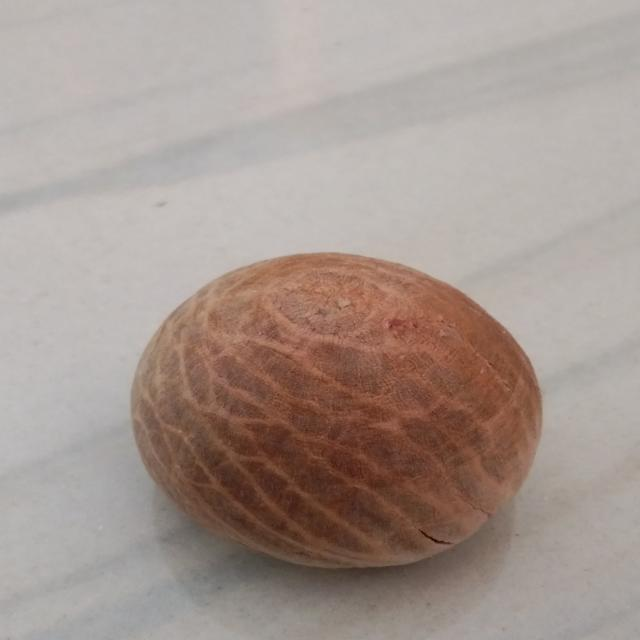good: (116, 235, 564, 575)
